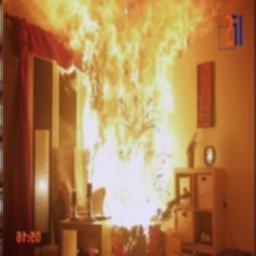fire: (56, 0, 205, 239)
